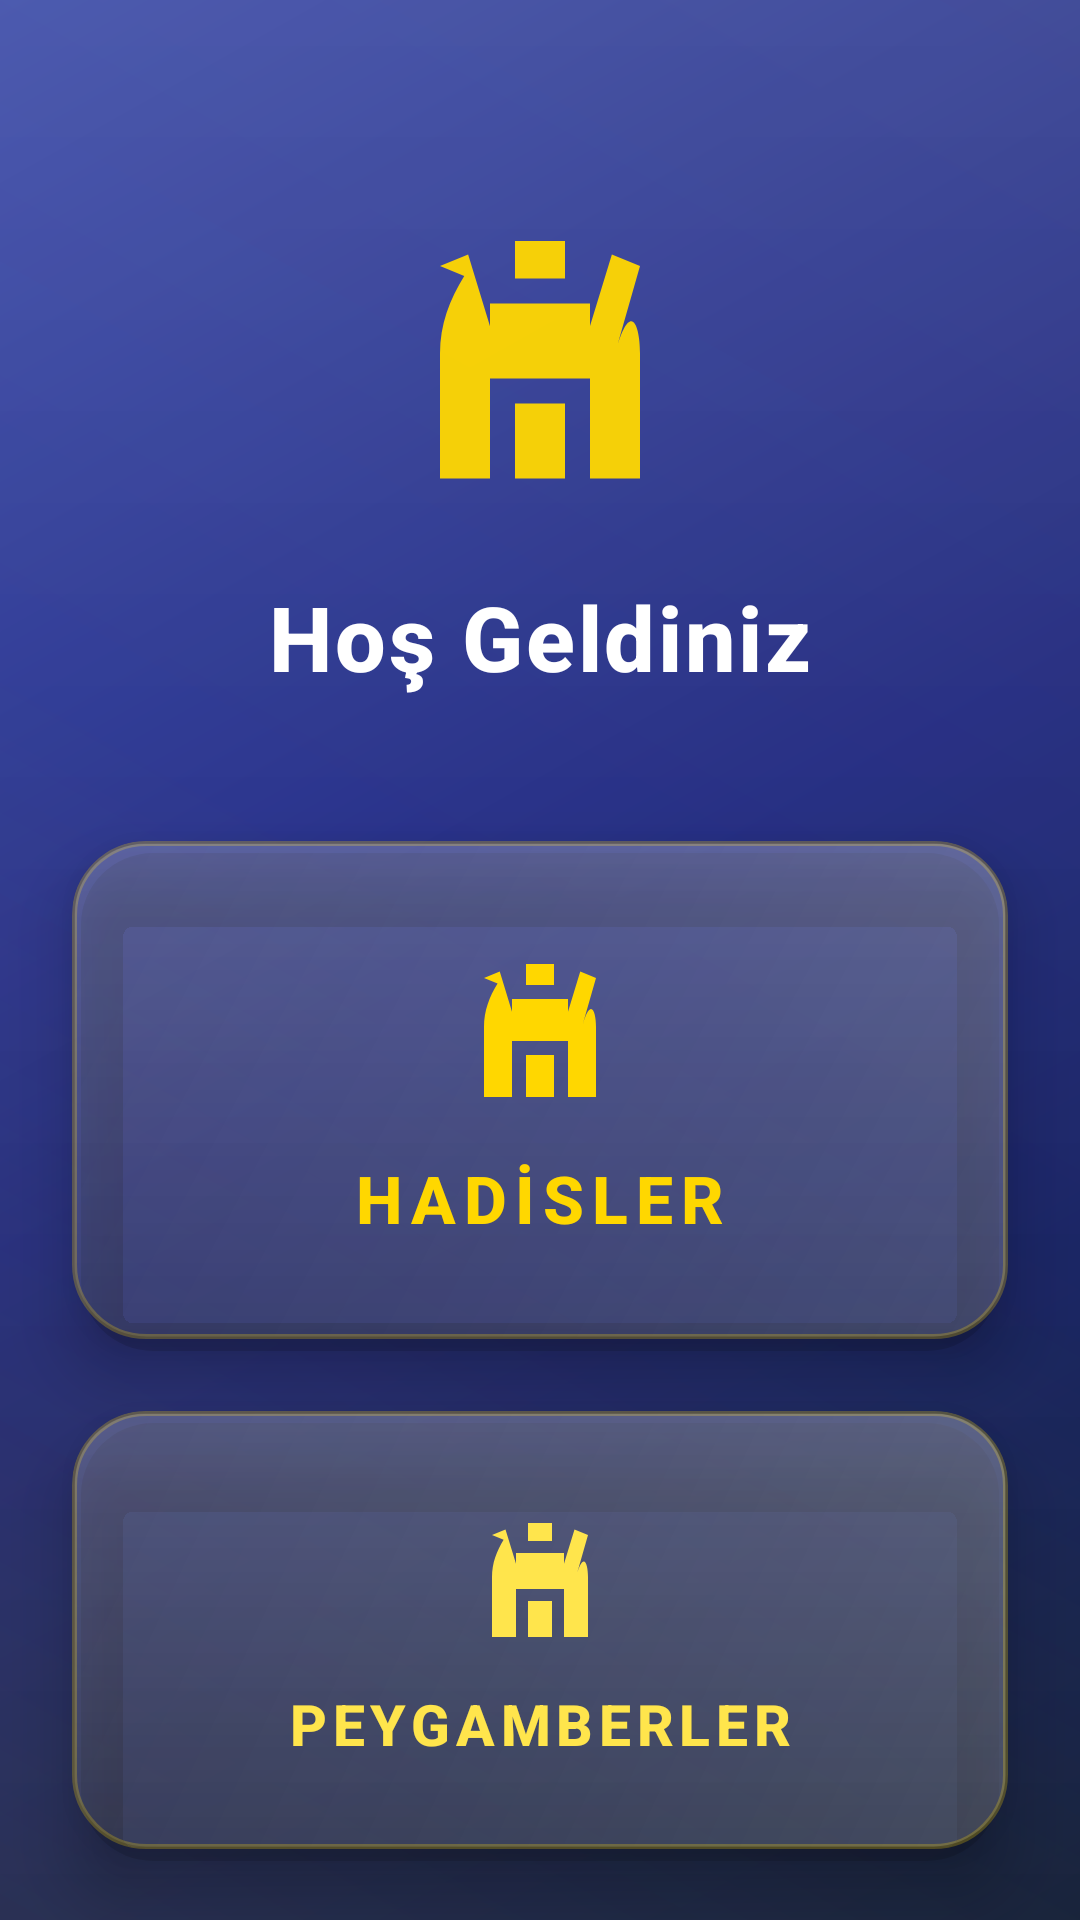

Locate icon controls on the screen. Image size 1080px×1920px, boxes as {"x1": x1, "y1": y1, "x2": x2, "y2": y2}.
mosque: {"x1": 440, "y1": 241, "x2": 640, "y2": 479}, {"x1": 484, "y1": 964, "x2": 596, "y2": 1097}, {"x1": 492, "y1": 1523, "x2": 588, "y2": 1637}
